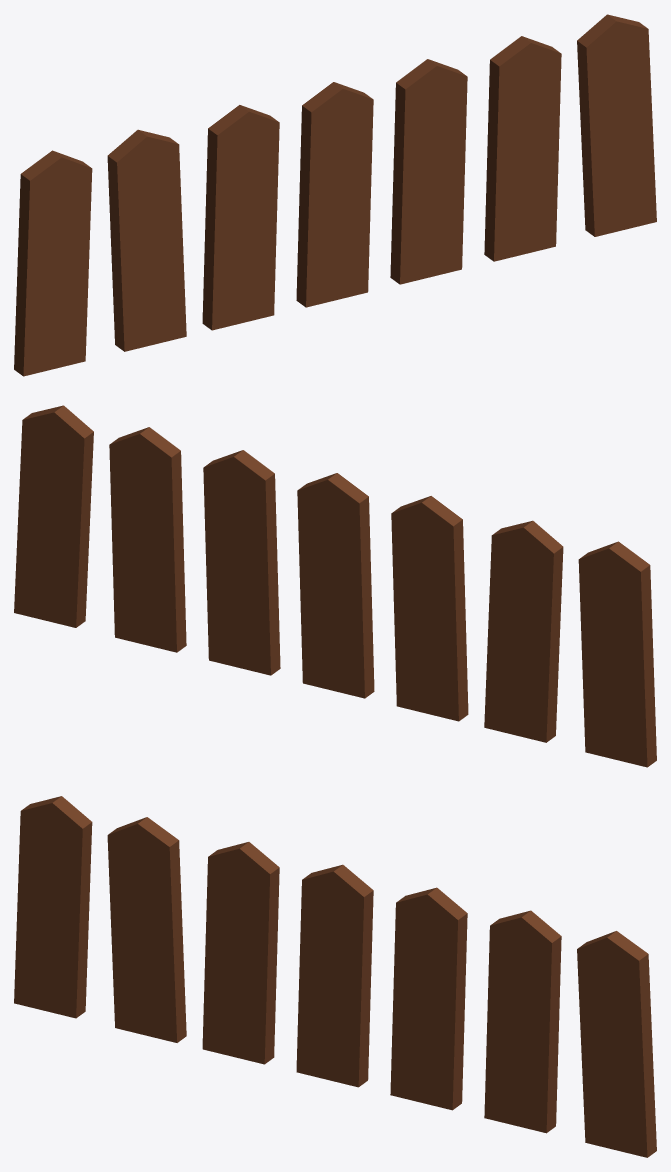
File: fence-2.fbx
The picture shows the model from 3 angles, top to bottom: view 1: azimuth 30°, elevation 25°; view 2: azimuth 150°, elevation 25°; view 3: azimuth 330°, elevation 25°; orthographic projection.
Parts seen in each view (by area): view 1: fence-2; view 2: fence-2; view 3: fence-2.
Boxes of the visible parts, x1=… form: fence-2: x1=14, y1=14, x2=656, y2=376; fence-2: x1=14, y1=405, x2=656, y2=767; fence-2: x1=14, y1=796, x2=656, y2=1157.
Bounding box in the file's own units: 270 × 85.6 × 7.
